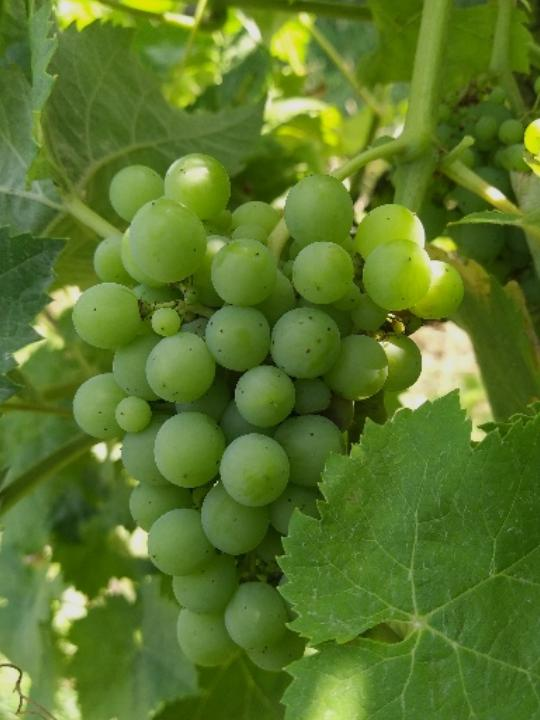grape: (69, 152, 465, 672)
